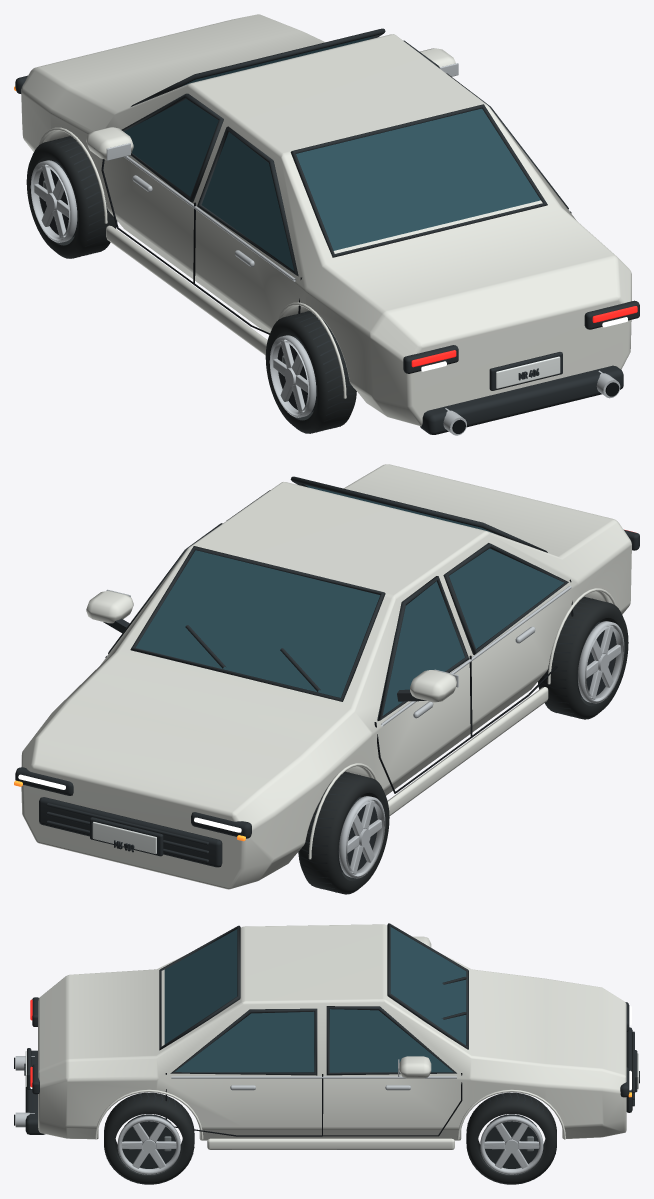
The model's file is vehicle_maris_executive_sedan.glb.
3 views of the same model, one above another, from view 1: azimuth 30°, elevation 25°; view 2: azimuth 150°, elevation 25°; view 3: azimuth 270°, elevation 25° (orthographic). The views are drawn at different scales.
Visible parts, largest first — view 1: Maris Executive Sedan | continuous sculpted body, Maris Executive Sedan | rear windshield, Maris Executive Sedan | rear quarter glazing, Maris Executive Sedan | front door glazing, Maris Executive Sedan | left rear | chamfered tire, Maris Executive Sedan | left front | chamfered tire, Maris Executive Sedan | rear bumper diffuser, Maris Executive Sedan | sill protector, Maris Executive Sedan | rear windshield | weather seal, Maris Executive Sedan | rear quarter glazing | gasket, Maris Executive Sedan | front windshield | weather seal, Maris Executive Sedan | left front | alloy rim lip (+12 smaller); view 2: Maris Executive Sedan | continuous sculpted body, Maris Executive Sedan | front windshield, Maris Executive Sedan | rear quarter glazing, Maris Executive Sedan | left front | chamfered tire, Maris Executive Sedan | front door glazing, Maris Executive Sedan | left rear | chamfered tire, Maris Executive Sedan | sill protector, Maris Executive Sedan | front bumper inset, Maris Executive Sedan | front windshield | weather seal, Maris Executive Sedan | rear windshield | weather seal, Maris Executive Sedan | rear quarter glazing | gasket, Maris Executive Sedan | left front | alloy rim lip (+13 smaller); view 3: Maris Executive Sedan | continuous sculpted body, Maris Executive Sedan | rear quarter glazing.001, Maris Executive Sedan | front windshield, Maris Executive Sedan | rear windshield, Maris Executive Sedan | front door glazing.001, Maris Executive Sedan | right front | chamfered tire, Maris Executive Sedan | right rear | chamfered tire, Maris Executive Sedan | sill protector.001, Maris Executive Sedan | rear quarter glazing | gasket.001, Maris Executive Sedan | front windshield | weather seal, Maris Executive Sedan | rear windshield | weather seal, Maris Executive Sedan | right rear | recessed wheel barrel (+13 smaller).
Boxes of the visible parts, <box> form: Maris Executive Sedan | continuous sculpted body: <box>21,14,631,426</box>; Maris Executive Sedan | rear windshield: <box>296,108,540,250</box>; Maris Executive Sedan | rear quarter glazing: <box>201,132,294,270</box>; Maris Executive Sedan | front door glazing: <box>124,99,218,196</box>; Maris Executive Sedan | left rear | chamfered tire: <box>265,311,356,433</box>; Maris Executive Sedan | left front | chamfered tire: <box>26,136,117,258</box>; Maris Executive Sedan | rear bumper diffuser: <box>420,365,623,434</box>; Maris Executive Sedan | sill protector: <box>106,225,267,355</box>; Maris Executive Sedan | rear windshield | weather seal: <box>290,104,547,257</box>; Maris Executive Sedan | rear quarter glazing | gasket: <box>197,126,298,276</box>; Maris Executive Sedan | front windshield | weather seal: <box>131,28,385,106</box>; Maris Executive Sedan | left front | alloy rim lip: <box>30,160,77,242</box>; Maris Executive Sedan | continuous sculpted body: <box>21,464,631,889</box>; Maris Executive Sedan | front windshield: <box>135,550,380,697</box>; Maris Executive Sedan | rear quarter glazing: <box>449,548,564,648</box>; Maris Executive Sedan | left front | chamfered tire: <box>298,771,389,894</box>; Maris Executive Sedan | front door glazing: <box>382,581,464,715</box>; Maris Executive Sedan | left rear | chamfered tire: <box>538,596,628,719</box>; Maris Executive Sedan | sill protector: <box>387,687,548,816</box>; Maris Executive Sedan | front bumper inset: <box>39,797,222,867</box>; Maris Executive Sedan | front windshield | weather seal: <box>130,546,385,701</box>; Maris Executive Sedan | rear windshield | weather seal: <box>290,476,547,552</box>; Maris Executive Sedan | rear quarter glazing | gasket: <box>443,543,568,654</box>; Maris Executive Sedan | left front | alloy rim lip: <box>339,796,385,878</box>; Maris Executive Sedan | continuous sculpted body: <box>38,924,626,1140</box>; Maris Executive Sedan | rear quarter glazing.001: <box>175,1011,314,1072</box>; Maris Executive Sedan | front windshield: <box>390,927,466,1045</box>; Maris Executive Sedan | rear windshield: <box>164,929,237,1044</box>; Maris Executive Sedan | front door glazing.001: <box>329,1009,453,1072</box>; Maris Executive Sedan | right front | chamfered tire: <box>466,1092,556,1184</box>; Maris Executive Sedan | right rear | chamfered tire: <box>104,1092,194,1184</box>; Maris Executive Sedan | sill protector.001: <box>207,1138,454,1149</box>; Maris Executive Sedan | rear quarter glazing | gasket.001: <box>170,1008,317,1075</box>; Maris Executive Sedan | front windshield | weather seal: <box>387,923,468,1049</box>; Maris Executive Sedan | rear windshield | weather seal: <box>159,925,240,1050</box>; Maris Executive Sedan | right rear | recessed wheel barrel: <box>122,1114,175,1168</box>.
Bounding box in the file's own units: 2.56 × 1.55 × 5.13.
